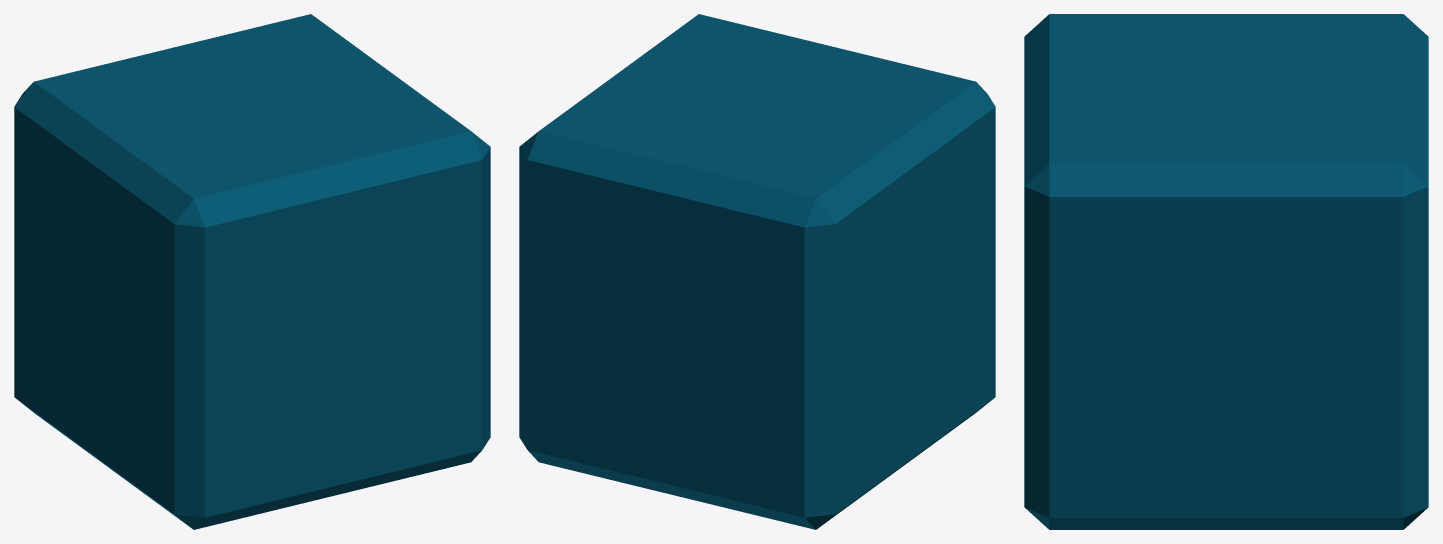
The model's file is Blue Cube.glb.
3 renders of one model, left to right at view 1: azimuth 30°, elevation 25°; view 2: azimuth 150°, elevation 25°; view 3: azimuth 270°, elevation 25°, orthographic. The views are drawn at different scales.
Parts seen in each view (by area): view 1: Blue Cube; view 2: Blue Cube; view 3: Blue Cube.
Boxes of the visible parts, <box> form: Blue Cube: <box>14,14,490,529</box>; Blue Cube: <box>519,14,995,529</box>; Blue Cube: <box>1024,14,1428,529</box>.
Bounding box in the file's own units: 0.1876 × 0.1876 × 0.1876.
